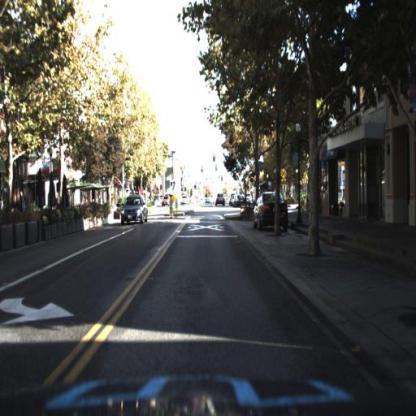car: (251, 189, 290, 234), (119, 193, 150, 231), (217, 193, 229, 214)
